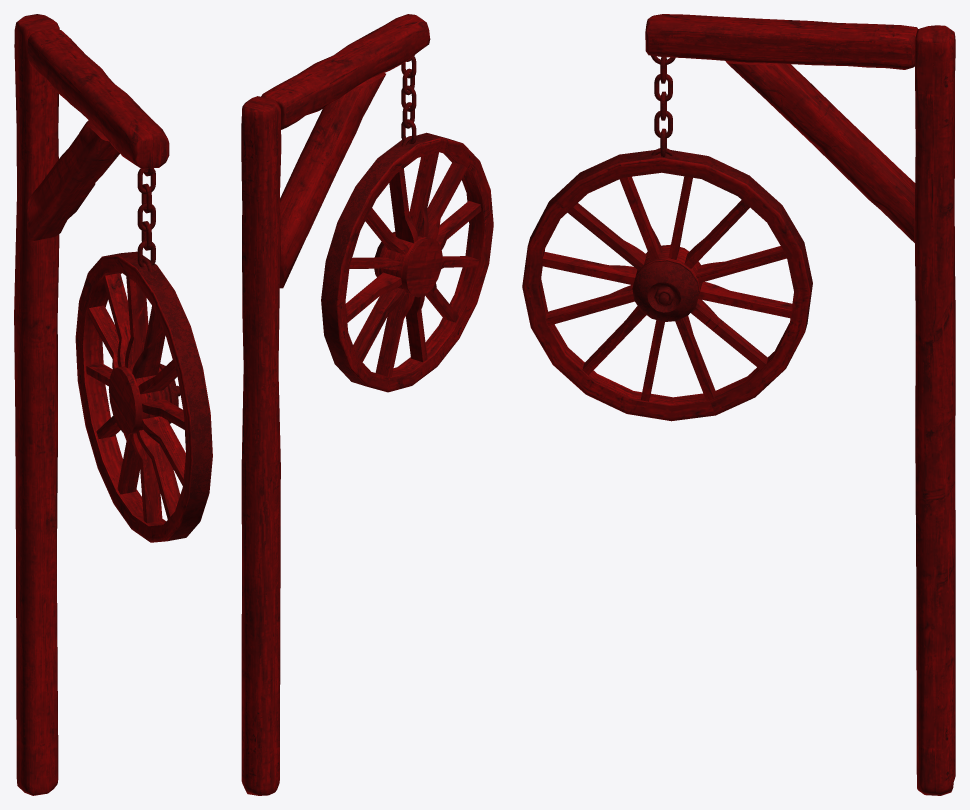
Rendered from Street_Wheel_Post.glb.
3 renders of one model, left to right at view 1: azimuth 30°, elevation 25°; view 2: azimuth 150°, elevation 25°; view 3: azimuth 270°, elevation 25°, orthographic. The views are drawn at different scales.
Visible parts, largest first — view 1: SM_Street_Wheel_Post; view 2: SM_Street_Wheel_Post; view 3: SM_Street_Wheel_Post.
Part boxes in pixels (x1=…): SM_Street_Wheel_Post: x1=14, y1=14, x2=212, y2=795; SM_Street_Wheel_Post: x1=241, y1=14, x2=493, y2=795; SM_Street_Wheel_Post: x1=522, y1=14, x2=955, y2=795.
Size of the model in its own units: 0.2895 by 3 by 1.56.
Materials: 2 (2 with a texture image).
